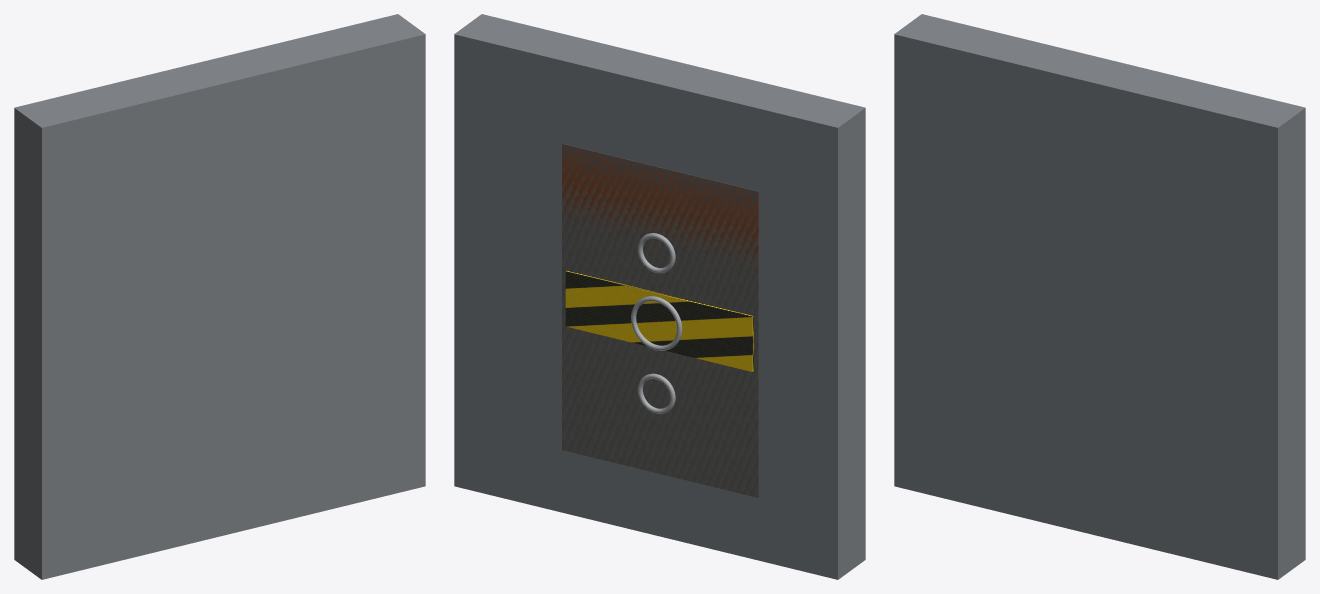
File: wall_blast_door.glb
3 views of the same model, side by side, from view 1: azimuth 30°, elevation 25°; view 2: azimuth 150°, elevation 25°; view 3: azimuth 330°, elevation 25° (orthographic).
Visible parts, largest first — view 1: Cube; view 2: Cube, Cube.001, Cube.002, Torus, Torus.001, Torus.002; view 3: Cube.
Part boxes in pixels (x1,y1,x2,y2): Cube: [14, 14, 425, 579]; Cube: [454, 14, 865, 579]; Cube.001: [562, 143, 758, 497]; Cube.002: [565, 270, 753, 371]; Torus: [631, 296, 682, 350]; Torus.001: [637, 233, 675, 273]; Torus.002: [637, 373, 675, 413]; Cube: [894, 14, 1305, 579].
Size of the model in its own units: 4 by 4.5 by 0.594.
4 materials, 2 textured.
